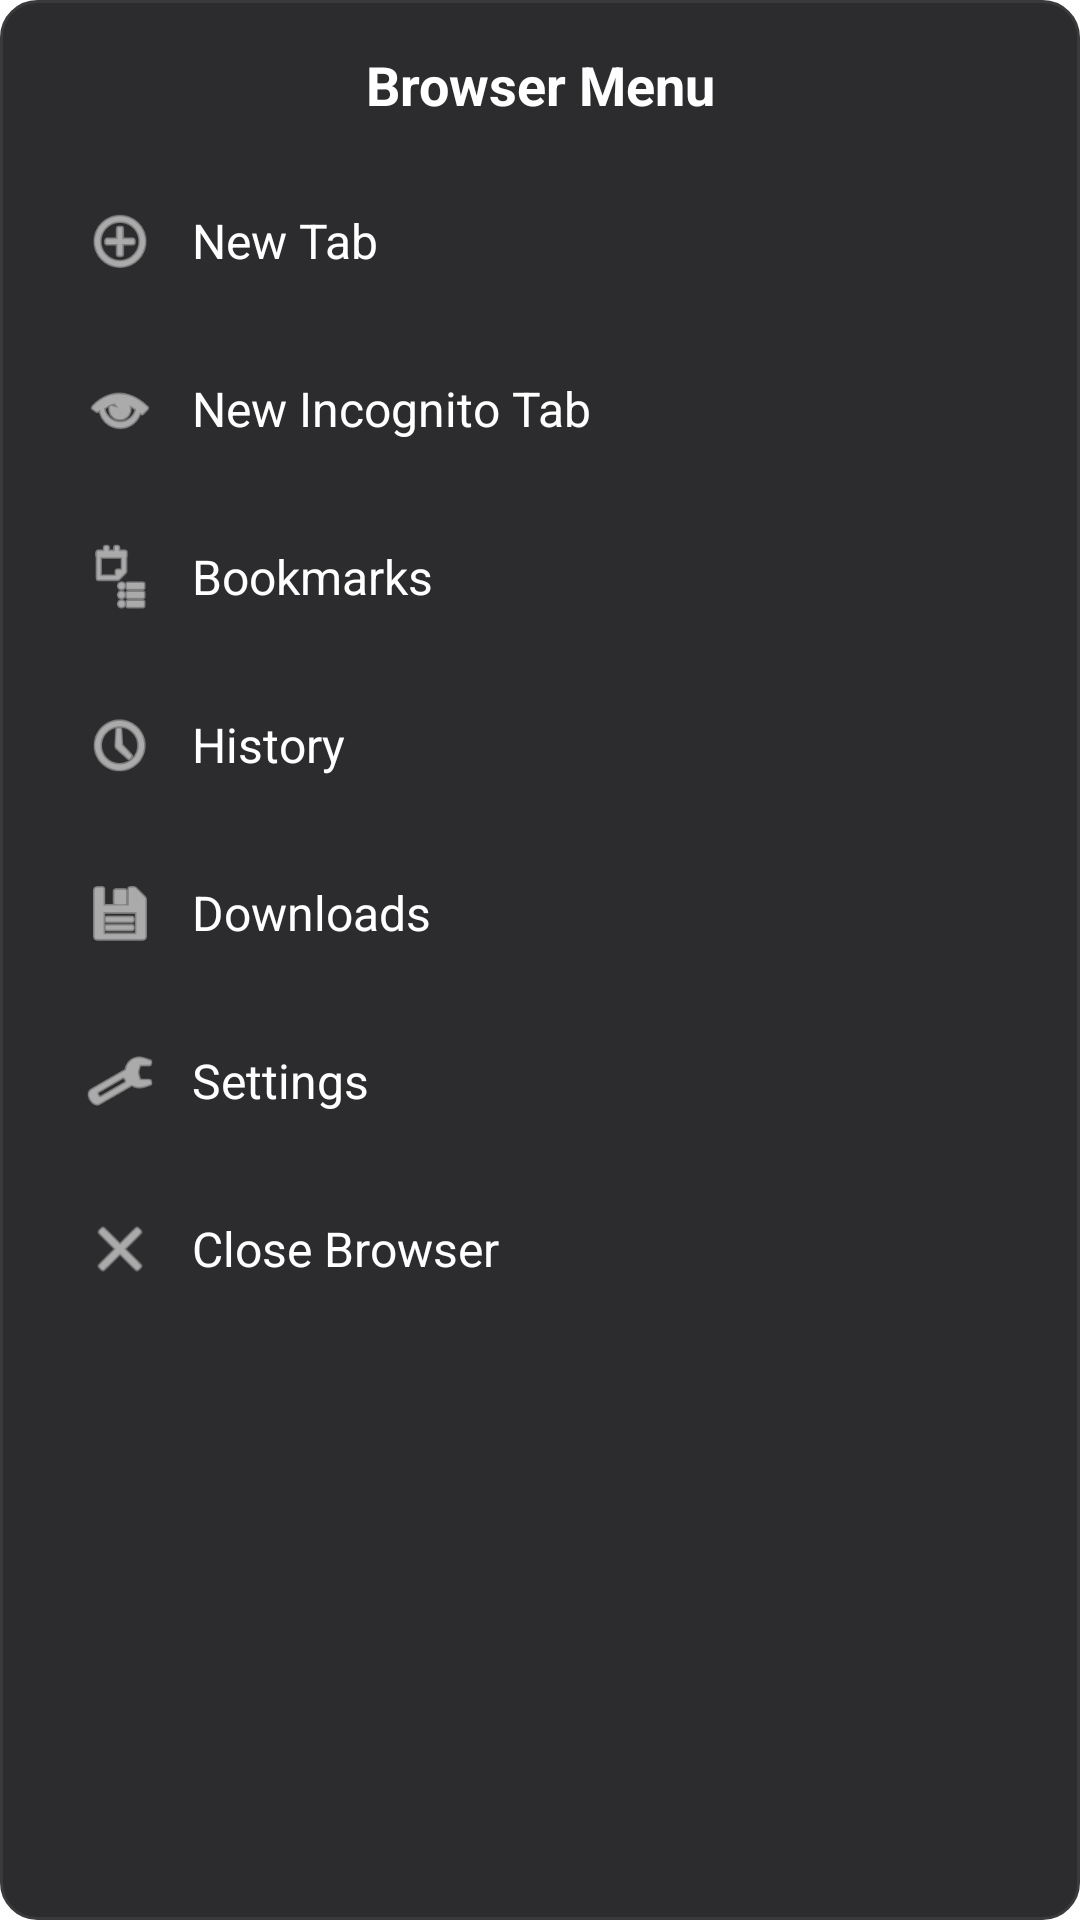

Icon bounding boxes for this 1080*1920 phone screenshot, format region(x1, y1, x2, y2):
add: region(93, 215, 147, 268)
agenda: region(95, 545, 146, 609)
close clear cancel: region(97, 1226, 143, 1272)
preferences: region(88, 1056, 152, 1106)
save: region(93, 886, 147, 941)
view: region(91, 392, 149, 429)
